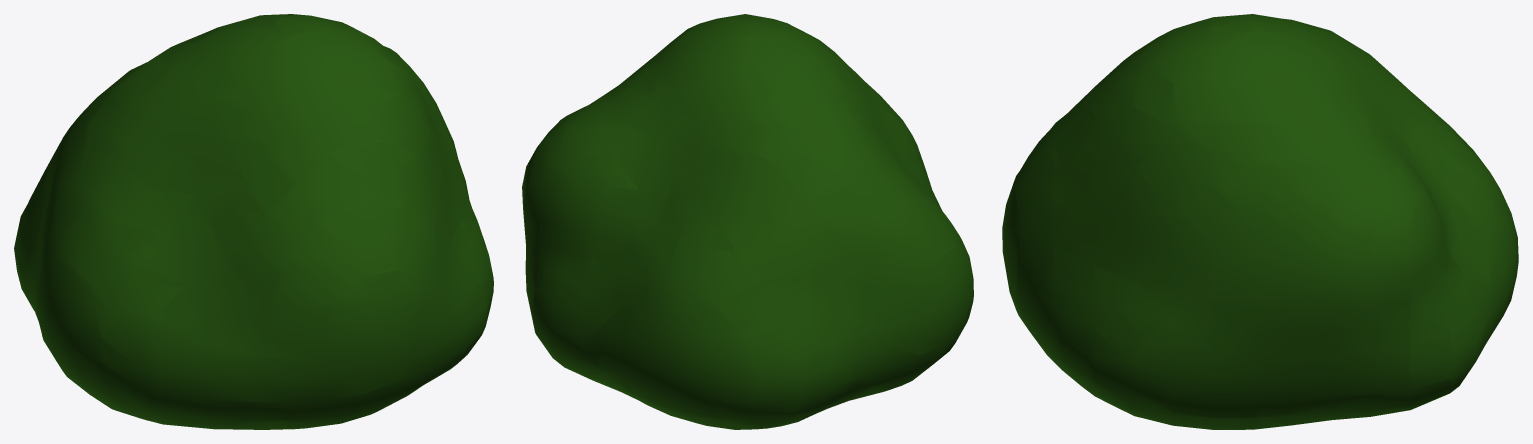
File: bush.glb
3 views of the same model, side by side, from view 1: azimuth 30°, elevation 25°; view 2: azimuth 150°, elevation 25°; view 3: azimuth 270°, elevation 25° (orthographic). The views are drawn at different scales.
Visible parts, largest first — view 1: Mball.010; view 2: Mball.010; view 3: Mball.010.
Part boxes in pixels (<box>): Mball.010: <box>14,14,493,429</box>; Mball.010: <box>522,14,973,429</box>; Mball.010: <box>1002,14,1518,429</box>.
Size of the model in its own units: 7.42 by 6.01 by 7.83.
